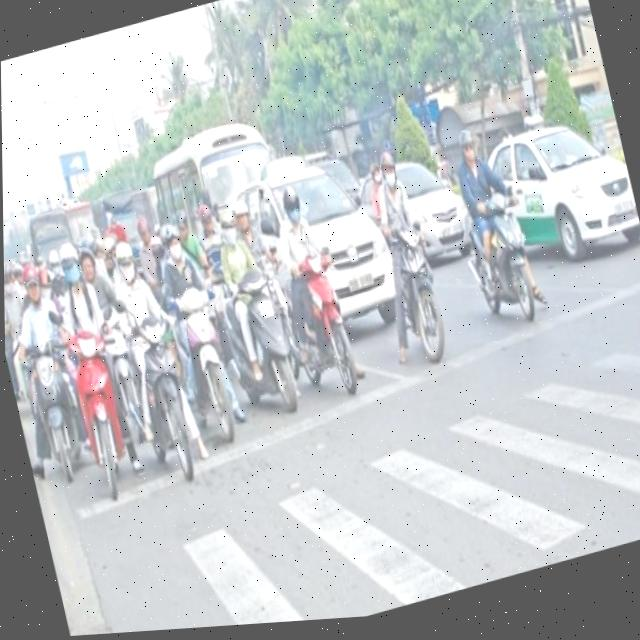car: (249, 136, 416, 367), (474, 101, 640, 289), (369, 141, 482, 280)
motorcycle: (75, 289, 181, 497), (113, 278, 212, 487), (52, 303, 149, 502), (158, 268, 254, 458), (218, 250, 315, 428), (363, 215, 466, 382), (5, 319, 100, 499), (274, 251, 365, 414), (462, 192, 550, 337)
